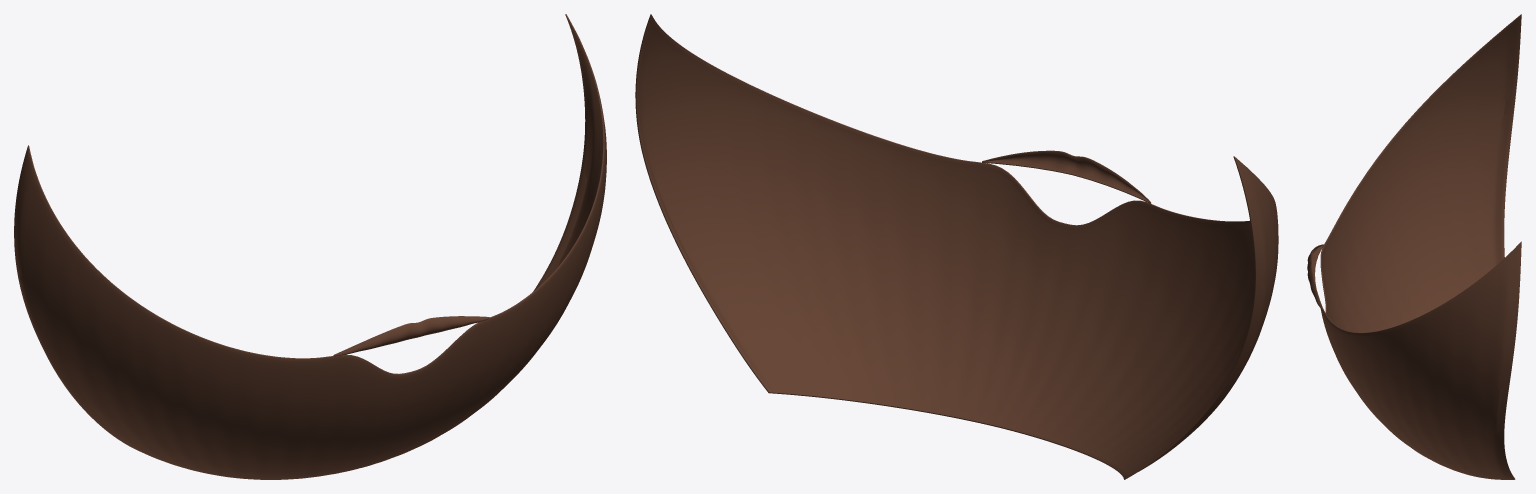
The model's file is Masculine-groom-short.glb.
3 views of the same model, side by side, from view 1: azimuth 30°, elevation 25°; view 2: azimuth 150°, elevation 25°; view 3: azimuth 270°, elevation 25° (orthographic). The views are drawn at different scales.
Parts seen in each view (by area): view 1: Groom / short body183, Groom / shared mustache183; view 2: Groom / short body183, Groom / shared mustache183; view 3: Groom / short body183, Groom / shared mustache183.
Part boxes in pixels (left/top/right/bottom): Groom / short body183: left=14, top=14, right=606, bottom=479; Groom / shared mustache183: left=333, top=316, right=489, bottom=356; Groom / short body183: left=635, top=14, right=1278, bottom=479; Groom / shared mustache183: left=982, top=150, right=1151, bottom=203; Groom / short body183: left=1320, top=14, right=1521, bottom=479; Groom / shared mustache183: left=1307, top=244, right=1323, bottom=310.
Size of the model in its own units: 0.9632 by 0.5645 by 0.359.
